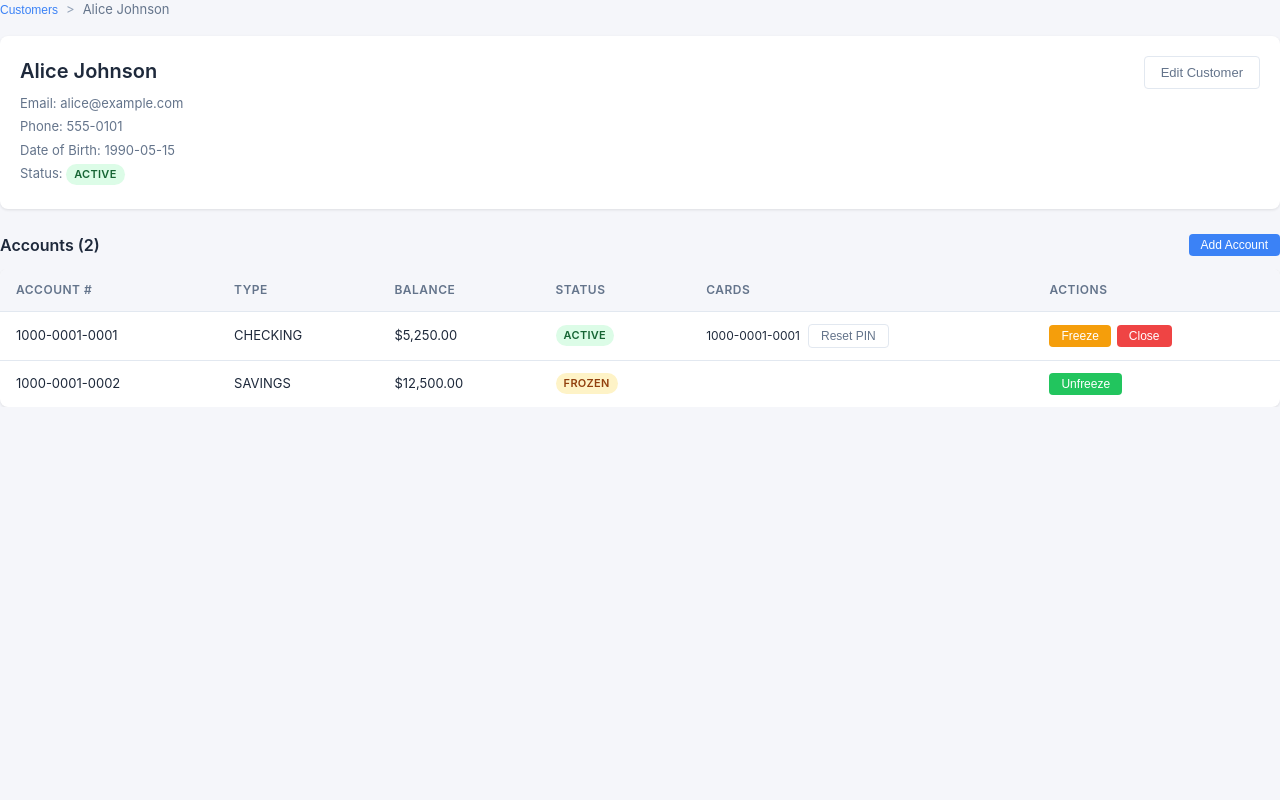
CustomerDetailPage › opens edit modal with pre-filled data
Click the button "Edit Customer". click: [1202, 72]
box: top-left (1144, 56), bottom-right (1260, 88)
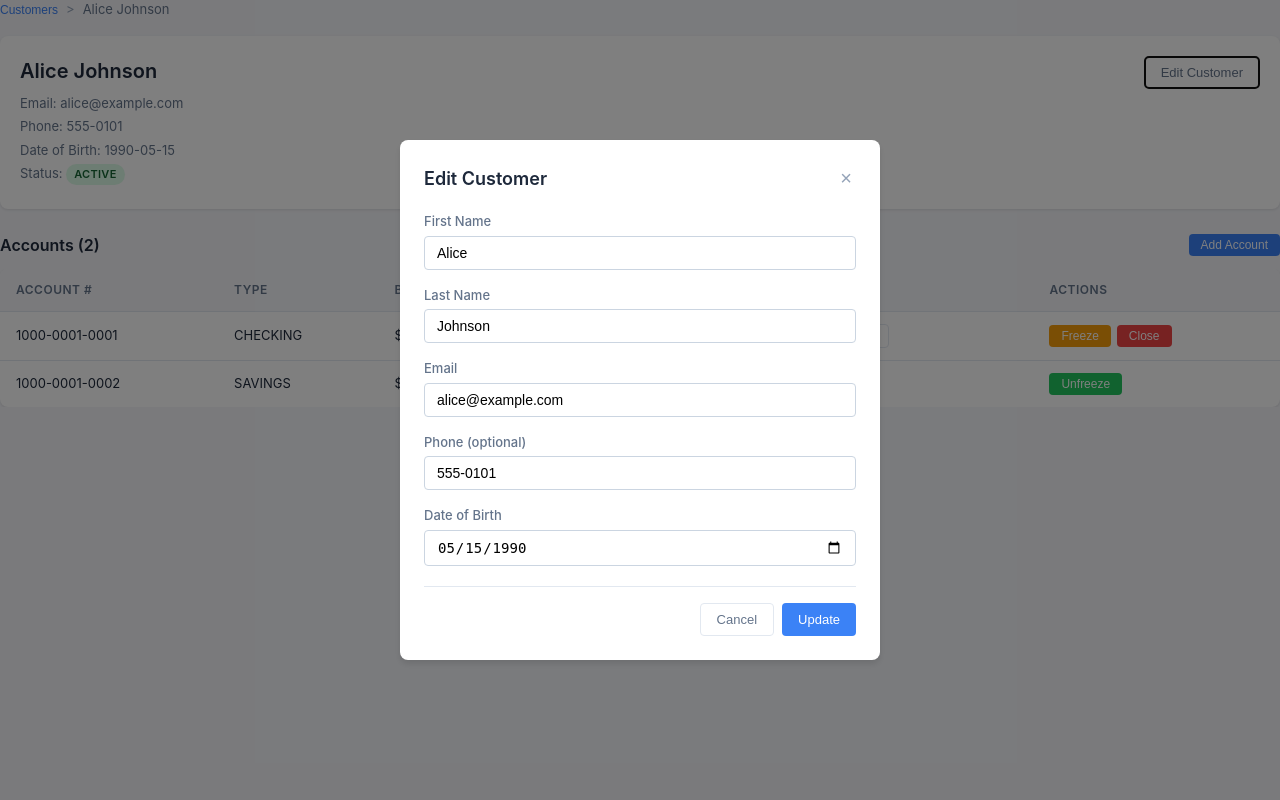
Now the field labelled "First Name" holds "Alice", box top-left (424, 236), bottom-right (856, 270)
